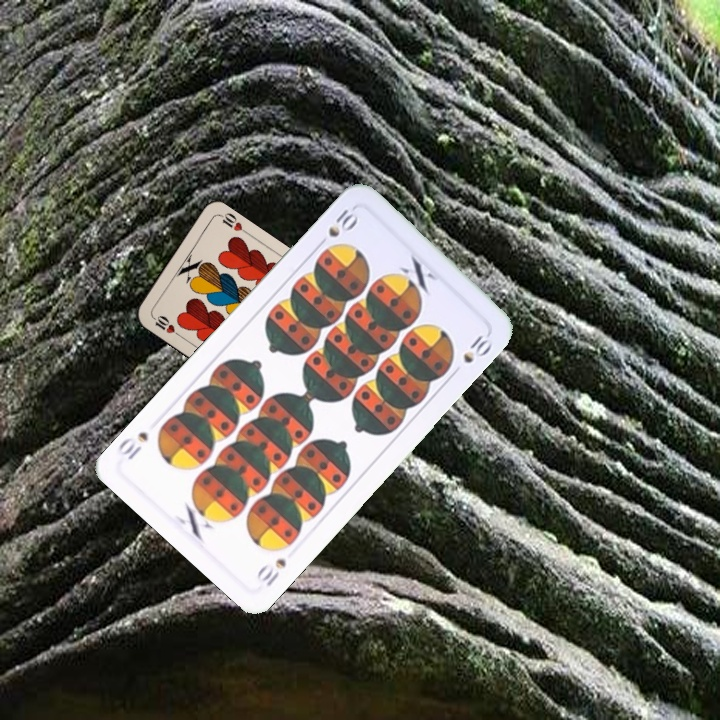H10: (148, 311, 184, 340)
S10: (312, 201, 362, 251), (252, 554, 289, 589)
